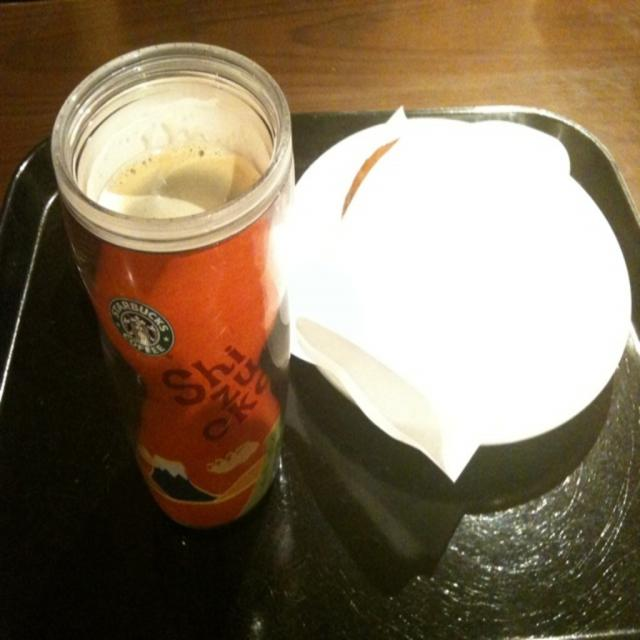Tea: (97, 144, 260, 223)
